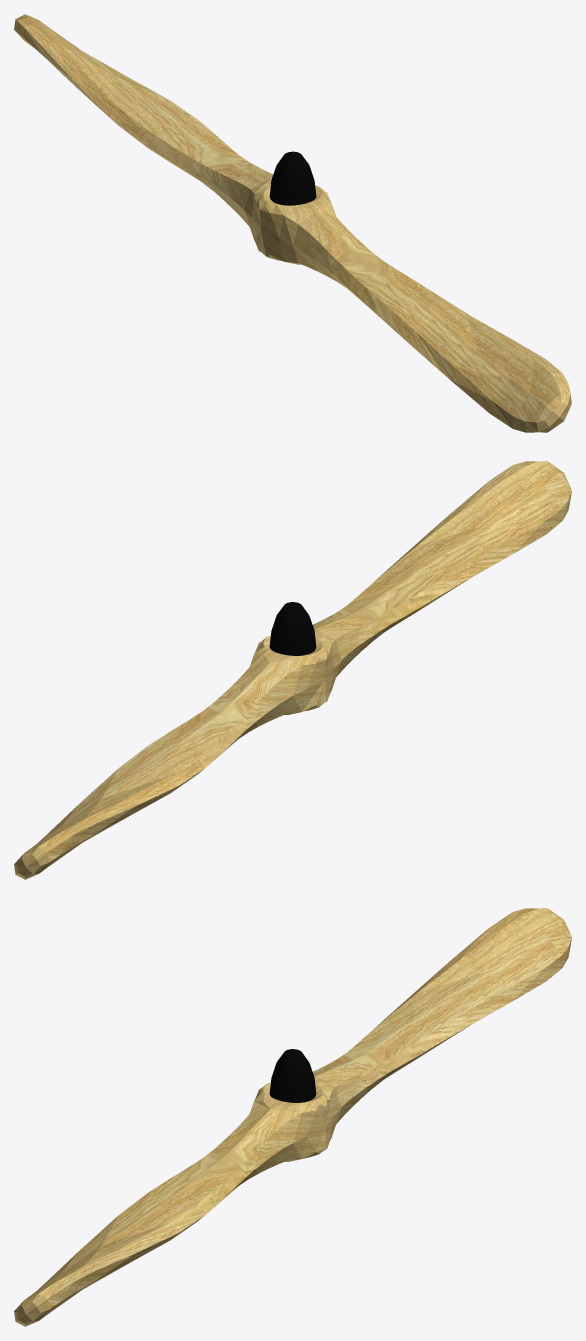
The model's file is propeller.obj.
The picture shows the model from 3 angles, top to bottom: view 1: azimuth 30°, elevation 25°; view 2: azimuth 150°, elevation 25°; view 3: azimuth 330°, elevation 25°; orthographic projection.
Bounding box in the file's own units: 0.0494 × 0.0677 × 0.6686.
